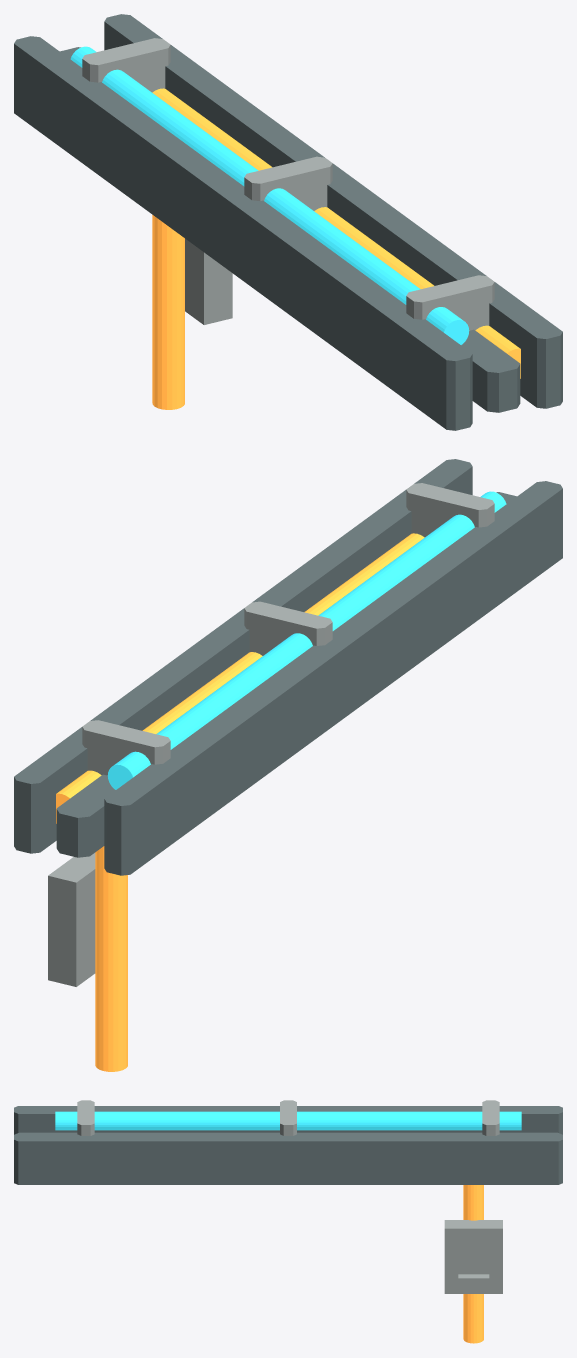
File: refinery-cable-tray-lod0.glb
3 renders of one model, top to bottom at view 1: azimuth 30°, elevation 25°; view 2: azimuth 150°, elevation 25°; view 3: azimuth 270°, elevation 25°, orthographic. The views are drawn at different scales.
Visible parts, largest first — view 1: refinery-cable-tray-rail-left, refinery-cable-tray-rail-right, refinery-cable-tray-data, refinery-cable-tray-drop, refinery-cable-tray-power, refinery-cable-tray-spine, refinery-cable-tray-junction, refinery-cable-tray-clamp-forward, refinery-cable-tray-clamp-aft, refinery-cable-tray-clamp; view 2: refinery-cable-tray-rail-left, refinery-cable-tray-rail-right, refinery-cable-tray-data, refinery-cable-tray-drop, refinery-cable-tray-junction, refinery-cable-tray-power, refinery-cable-tray-spine, refinery-cable-tray-clamp-aft, refinery-cable-tray-clamp, refinery-cable-tray-clamp-forward; view 3: refinery-cable-tray-rail-right, refinery-cable-tray-data, refinery-cable-tray-rail-left, refinery-cable-tray-junction, refinery-cable-tray-drop, refinery-cable-tray-spine, refinery-cable-tray-clamp-forward, refinery-cable-tray-clamp-aft, refinery-cable-tray-clamp.
Boxes of the visible parts, bbox=[...] form: refinery-cable-tray-rail-left: bbox=[14, 36, 472, 430]; refinery-cable-tray-rail-right: bbox=[104, 14, 562, 408]; refinery-cable-tray-data: bbox=[70, 46, 469, 344]; refinery-cable-tray-drop: bbox=[152, 215, 184, 409]; refinery-cable-tray-power: bbox=[152, 88, 520, 378]; refinery-cable-tray-spine: bbox=[60, 47, 520, 412]; refinery-cable-tray-junction: bbox=[185, 238, 232, 324]; refinery-cable-tray-clamp-forward: bbox=[406, 275, 494, 330]; refinery-cable-tray-clamp-aft: bbox=[82, 38, 170, 92]; refinery-cable-tray-clamp: bbox=[244, 156, 332, 210]; refinery-cable-tray-rail-left: bbox=[104, 481, 562, 875]; refinery-cable-tray-rail-right: bbox=[14, 459, 472, 853]; refinery-cable-tray-data: bbox=[107, 491, 506, 789]; refinery-cable-tray-drop: bbox=[95, 846, 127, 1071]; refinery-cable-tray-junction: bbox=[48, 853, 95, 986]; refinery-cable-tray-power: bbox=[56, 533, 424, 823]; refinery-cable-tray-spine: bbox=[56, 492, 516, 857]; refinery-cable-tray-clamp-aft: bbox=[82, 720, 170, 775]; refinery-cable-tray-clamp: bbox=[244, 601, 332, 655]; refinery-cable-tray-clamp-forward: bbox=[406, 483, 494, 537]; refinery-cable-tray-rail-right: bbox=[14, 1133, 562, 1184]; refinery-cable-tray-data: bbox=[55, 1111, 521, 1130]; refinery-cable-tray-rail-left: bbox=[14, 1106, 562, 1134]; refinery-cable-tray-junction: bbox=[444, 1220, 502, 1293]; refinery-cable-tray-drop: bbox=[463, 1185, 483, 1343]; refinery-cable-tray-spine: bbox=[14, 1132, 562, 1134]; refinery-cable-tray-clamp-forward: bbox=[77, 1100, 94, 1135]; refinery-cable-tray-clamp-aft: bbox=[482, 1100, 499, 1135]; refinery-cable-tray-clamp: bbox=[280, 1100, 296, 1135].
Size of the model in its own units: 0.535 by 1.4 by 3.2.
